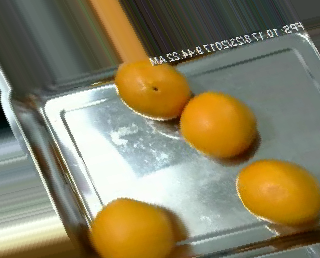Orange: (236, 158, 320, 227), (179, 91, 258, 158), (89, 198, 174, 258)
